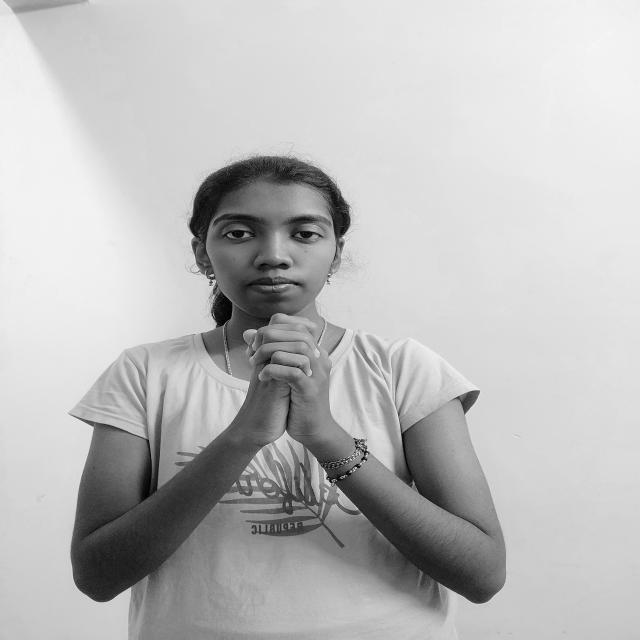Sorry: (220, 306, 358, 451)
